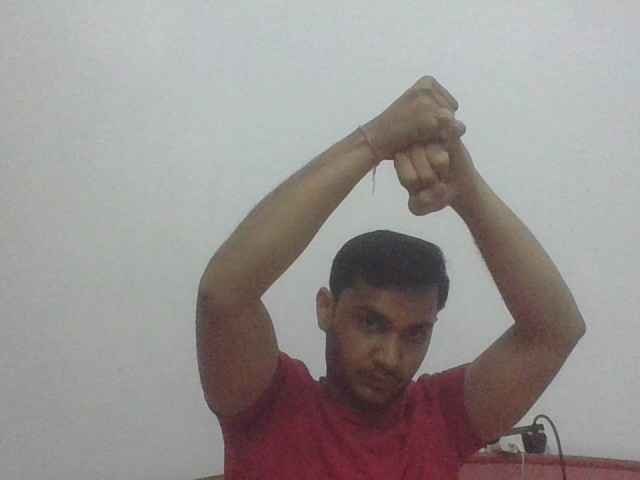S: (385, 70, 472, 222)
